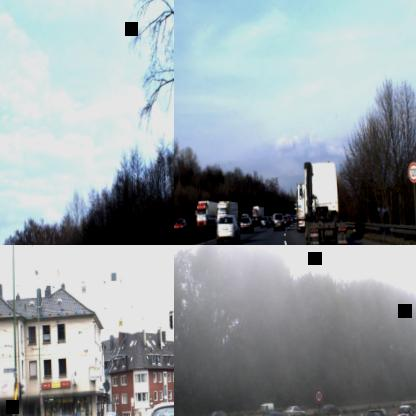speed limit 120: (407, 161, 416, 183)
speed limit 80: (314, 388, 322, 402)
